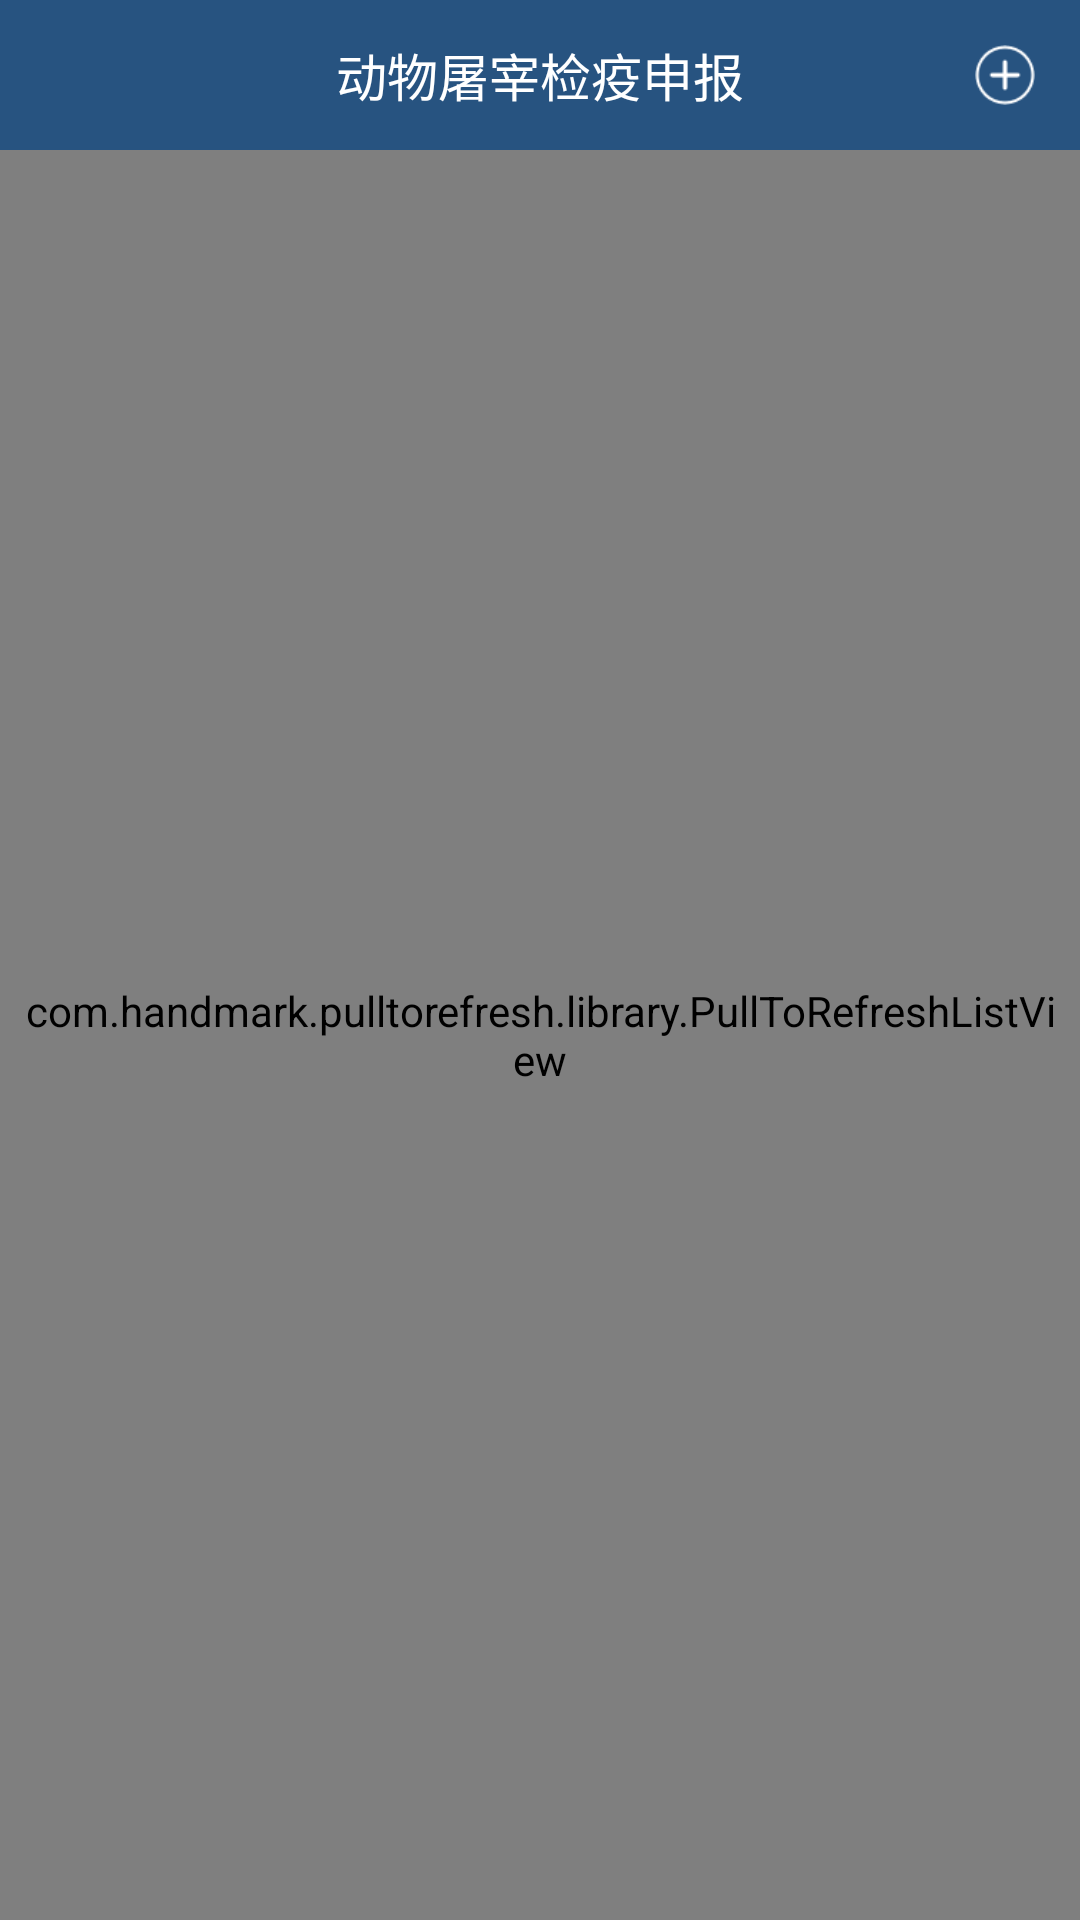

Where icons sit on this 1080x1920 app screen, as (x1, y1, x2, y2):
add order: (975, 45, 1035, 105)
